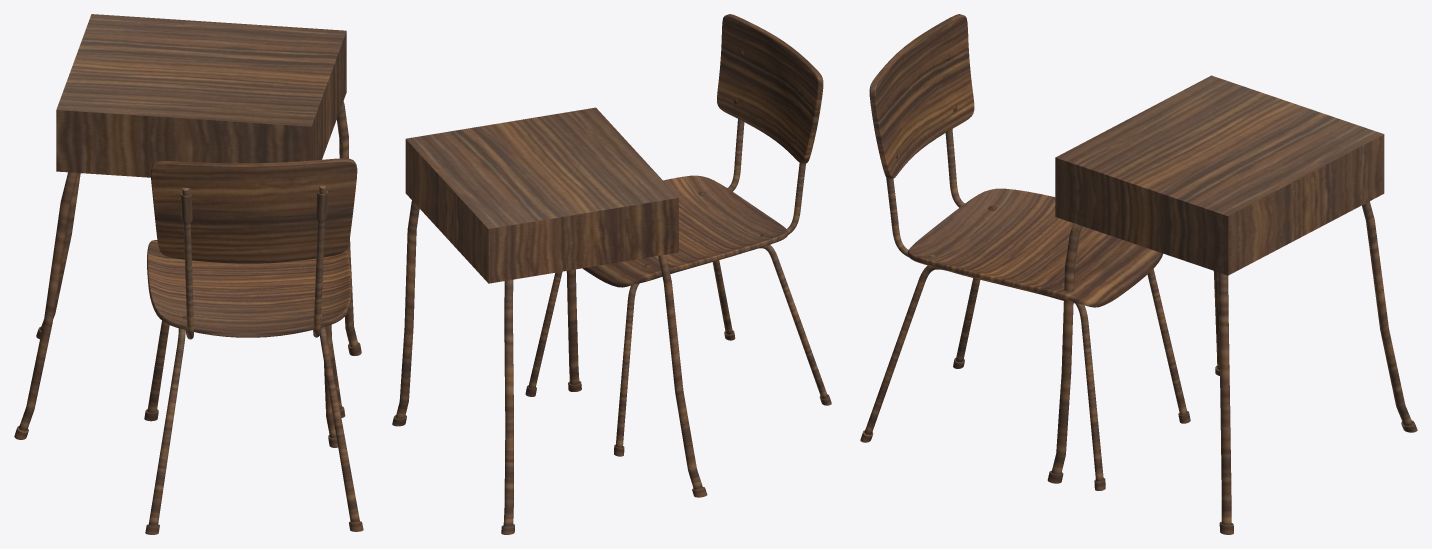
Rendered from moni4.obj.
3 views of the same model, side by side, from view 1: azimuth 30°, elevation 25°; view 2: azimuth 150°, elevation 25°; view 3: azimuth 270°, elevation 25° (orthographic). The views are drawn at different scales.
Visible parts, largest first — view 1: Cube.001, OldSchoolChair.001, OldSchoolChair.004; view 2: Cube.001, OldSchoolChair.001, OldSchoolChair.004; view 3: Cube.001, OldSchoolChair.001, OldSchoolChair.004.
Boxes of the visible parts, box(x1,y1,x2,y2) form: Cube.001: box(56, 14, 346, 177); OldSchoolChair.001: box(144, 158, 363, 534); OldSchoolChair.004: box(14, 101, 361, 447); Cube.001: box(405, 107, 678, 283); OldSchoolChair.001: box(525, 14, 831, 456); OldSchoolChair.004: box(392, 200, 707, 534); Cube.001: box(1055, 75, 1384, 275); OldSchoolChair.001: box(860, 14, 1190, 490); OldSchoolChair.004: box(1047, 201, 1417, 534).
Size of the model in its own units: 57.36 by 58 by 81.03.
